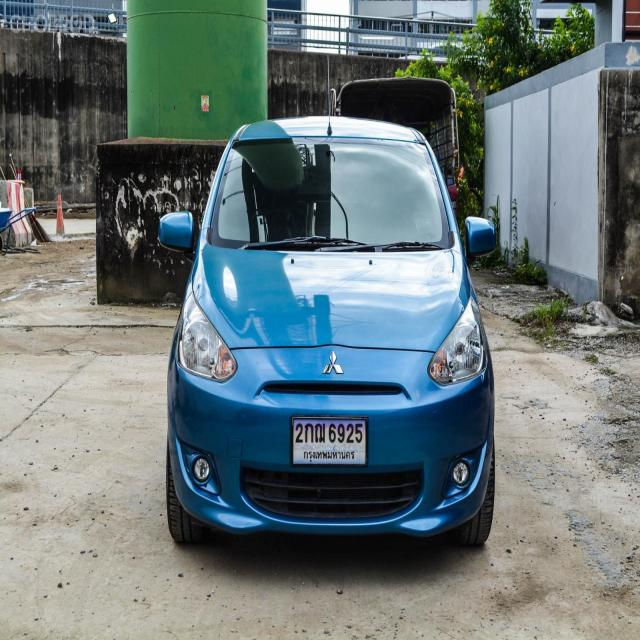license_plate: (291, 415, 368, 469)
